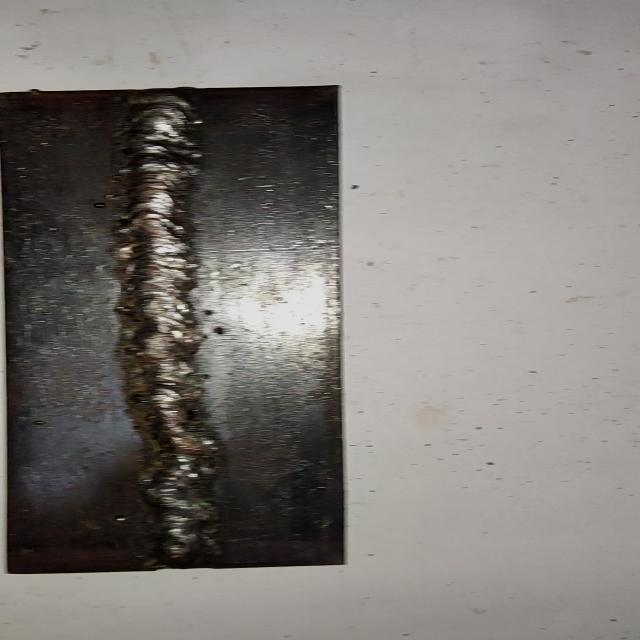Good Weld: (121, 97, 218, 561)
